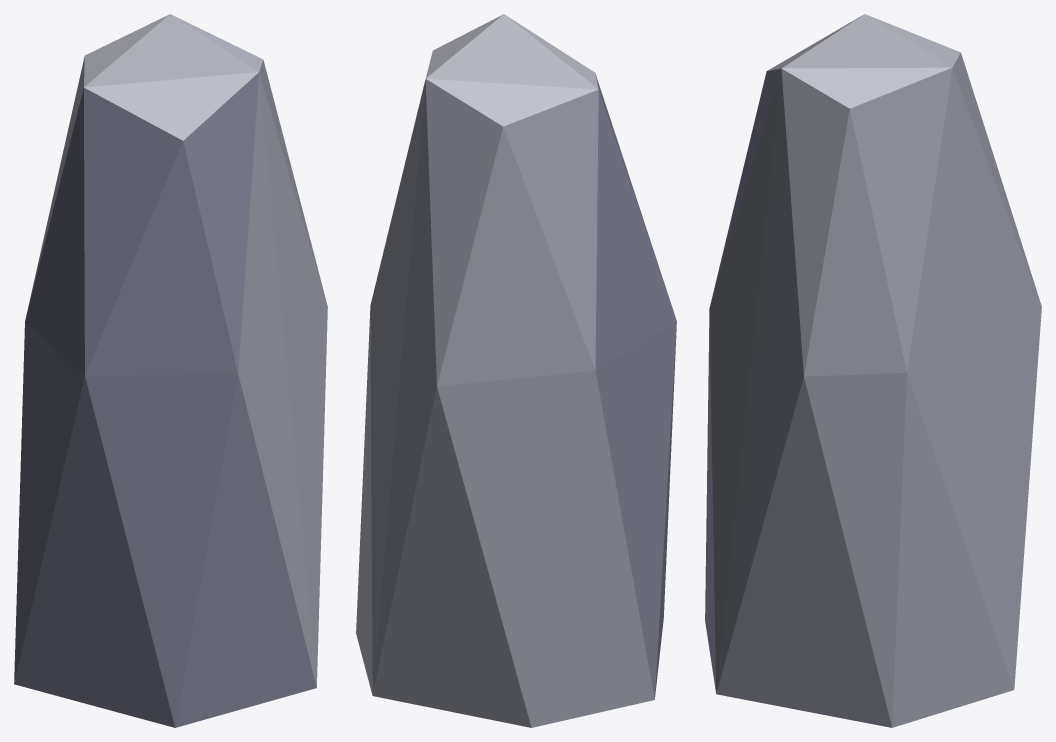
File: stone_tallD.glb
3 renders of one model, left to right at view 1: azimuth 30°, elevation 25°; view 2: azimuth 150°, elevation 25°; view 3: azimuth 270°, elevation 25°, orthographic. The views are drawn at different scales.
Visible parts, largest first — view 1: stone_tallD; view 2: stone_tallD; view 3: stone_tallD.
Part boxes in pixels (box(x1,y1,x2,y2)): stone_tallD: box(14, 14, 327, 727); stone_tallD: box(356, 14, 676, 727); stone_tallD: box(705, 14, 1041, 727).
Bounding box in the file's own units: 0.3827 × 0.7537 × 0.3754.
Materials: 1 (1 with a texture image).
